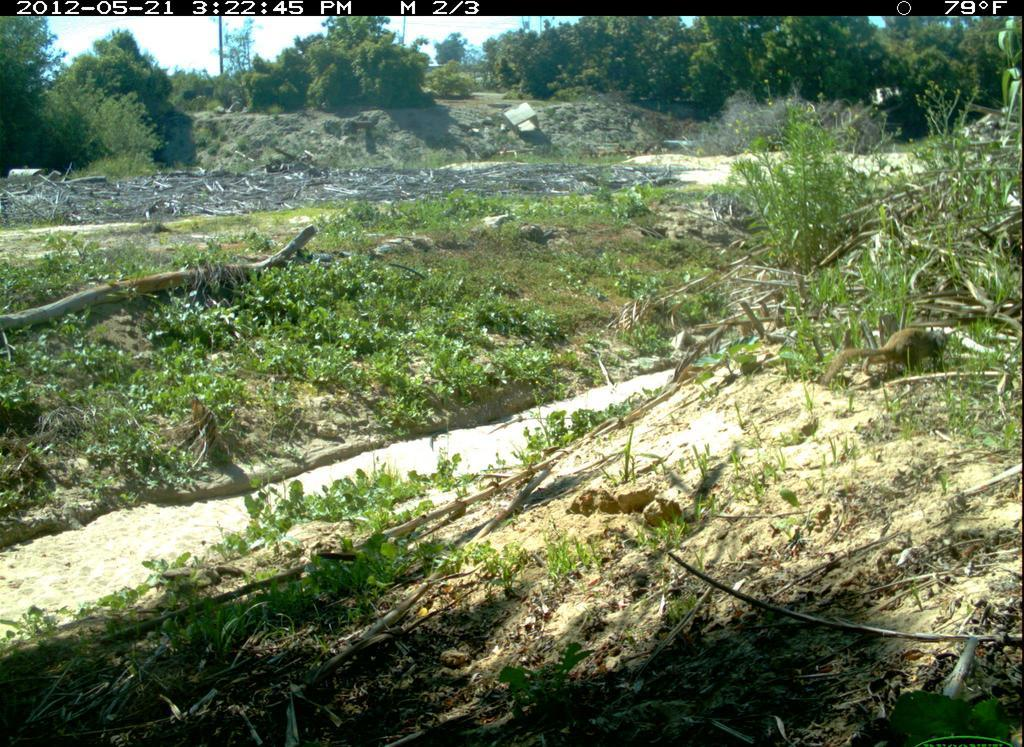squirrel: (806, 260, 987, 417)
